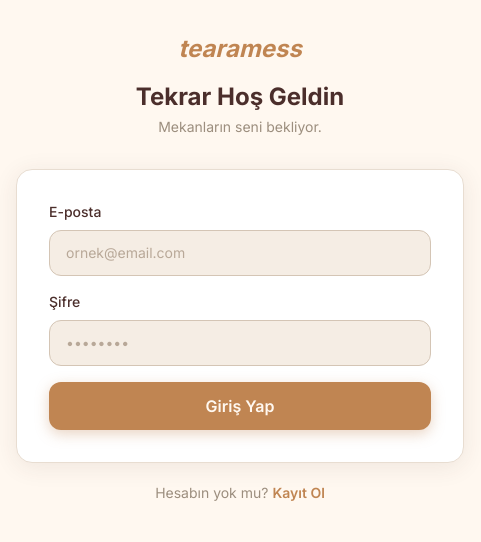
Test: LoginPage Zod validation › shows inline email error when email field is empty on submit
Click the button "Giriş Yap": coordinates (240, 406) [49,382,431,430]
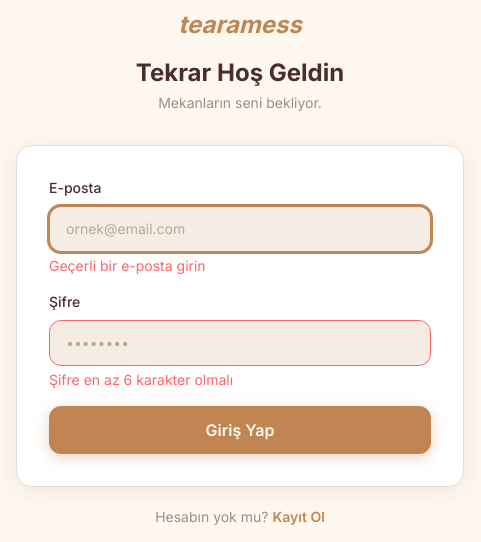
Now the text "Geçerli bir e-posta girin" is shown, box [49,257,206,274]
